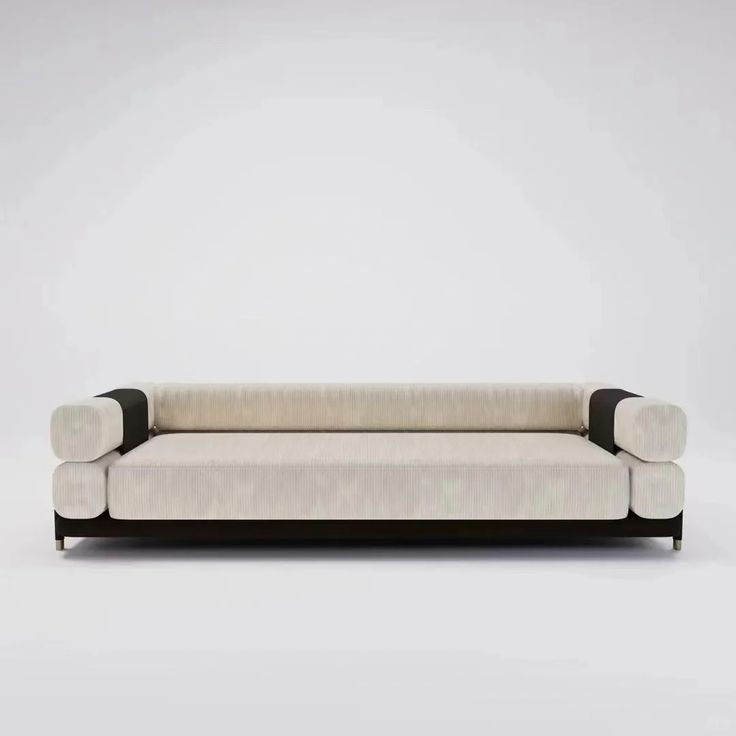3seatersofa: (53, 385, 686, 550)
backrest: (154, 384, 581, 430)
base: (55, 514, 681, 545)
leftarmrest: (582, 385, 685, 518)
leg: (673, 537, 681, 550), (56, 538, 63, 550)
rightarmrest: (52, 386, 151, 517)
seat: (109, 434, 629, 518)
